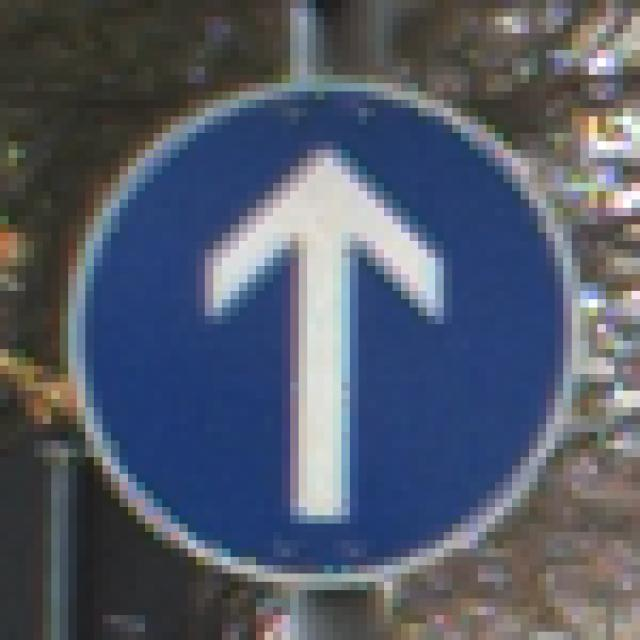compulsary ahead: (55, 89, 560, 569)
